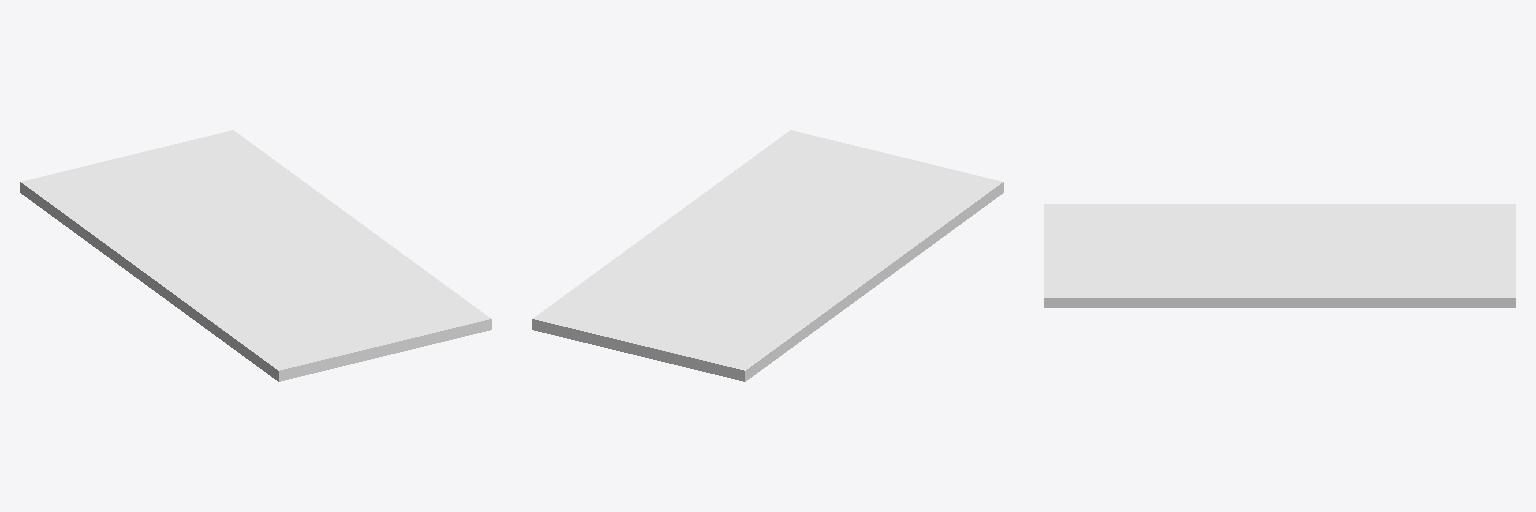
robot.urdf — bed:
<?xml version="1.0" ?>
<robot name="bed">

  <material name="white">
    <color rgba="1 1 1 1"/>
  </material>

  <link name="frame">
    <inertial>
      <mass value="0"/>
      <origin rpy="0 0 0" xyz="0 0 0"/>
      <inertia ixx="1" ixy="0" ixz="0" iyy="1" iyz="0" izz="1"/>
    </inertial>
    <visual>
      <origin rpy="1.57079632679 0 -1.57079632679" xyz="0 -0.15 0"/>
      <geometry>
        <mesh filename="hospital_bed_frame_reduced.obj" scale="1 1.2 1"/>
      </geometry>
      <material name="white"/>
    </visual>
    <collision>
      <origin rpy="1.57079632679 0 -1.57079632679" xyz="0 -0.15 0"/>
      <geometry>
        <mesh filename="hospital_bed_frame_vhacd.obj" scale="1 1.2 1"/>
      </geometry>
    </collision>
  </link>

    <link name="bottom">
        <visual>
            <origin xyz="-0.01 -0.625 0.02" rpy="0 0 0"/>
            <geometry>
                <box size="1 1.25 0.05"/>
            </geometry>
            <material name="white"/>
        </visual>
        <collision>
            <origin xyz="-0.01 -0.625 0.02" rpy="0 0 0"/>
            <geometry>
                <box size="1 1.25 0.05"/>
            </geometry>
        </collision>
        <contact>
            <rolling_friction value="0.001"/>
            <spinning_friction value="0.001"/>
        </contact>
        <inertial>
            <origin rpy="0 0 0" xyz="0 0 0"/>
            <mass value="0"/>
            <inertia ixx="1" ixy="0" ixz="0" iyy="1" iyz="0" izz="1"/>
        </inertial>
    </link>

    <link name="top">
        <visual>
            <origin xyz="-0.01 0.425 0.02" rpy="0 0 0"/>
            <geometry>
                <box size="1 0.85 0.05"/>
            </geometry>
            <material name="white"/>
        </visual>
        <collision>
            <origin xyz="-0.01 0.425 0.02" rpy="0 0 0"/>
            <geometry>
                <box size="1 0.85 0.05"/>
            </geometry>
        </collision>
        <contact>
            <rolling_friction value="0.001"/>
            <spinning_friction value="0.001"/>
        </contact>
        <inertial>
            <origin rpy="0 0 0" xyz="0 0 0"/>
            <mass value="0"/>
            <inertia ixx="1" ixy="0" ixz="0" iyy="1" iyz="0" izz="1"/>
        </inertial>
    </link>

    <joint name="j_weld1" type="fixed">
        <parent link="frame"/>
        <child link="bottom"/>
        <origin xyz="0 0 0"/>
    </joint>
    <joint name="j_weld2" type="revolute">
        <parent link="bottom"/>
        <child link="top"/>
        <origin rpy="0 0 0" xyz="0 0 0"/>
        <axis xyz="1 0 0"/>
        <limit lower="0" upper="1.57079632679"/>
    </joint>
</robot>

--- Render facts (derived) ---
Views: 3 orthographic renders of the robot side by side, from view 1: azimuth 30°, elevation 25°; view 2: azimuth 150°, elevation 25°; view 3: azimuth 270°, elevation 25°.
Model bed with 3 links and 2 joints (1 revolute, 1 fixed), rooted at frame, posed every joint at zero.
Links seen in each view (by area): view 1: bottom, top; view 2: bottom, top; view 3: bottom, top.
Link boxes in pixels (left/top/right/bottom): bottom: left=125, top=207, right=491, bottom=381; top: left=20, top=130, right=337, bottom=268; bottom: left=637, top=130, right=1003, bottom=304; top: left=532, top=243, right=849, bottom=381; bottom: left=1044, top=204, right=1324, bottom=307; top: left=1325, top=204, right=1515, bottom=307.
Size in the robot's own frame: 1 by 2.1 by 0.05 metres.
Meshes: 1 distinct files referenced, 0 mesh visuals loaded (none loaded); not drawn: 1 (reference not matched to a file when rendering).
